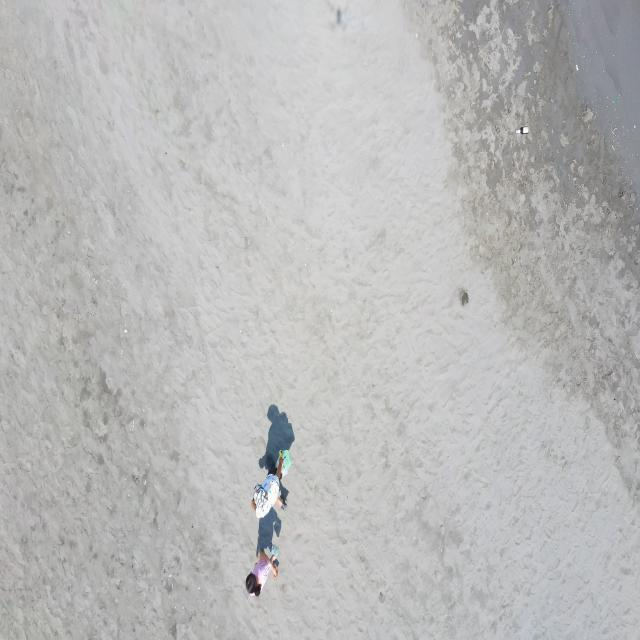glass: (516, 126, 528, 134)
